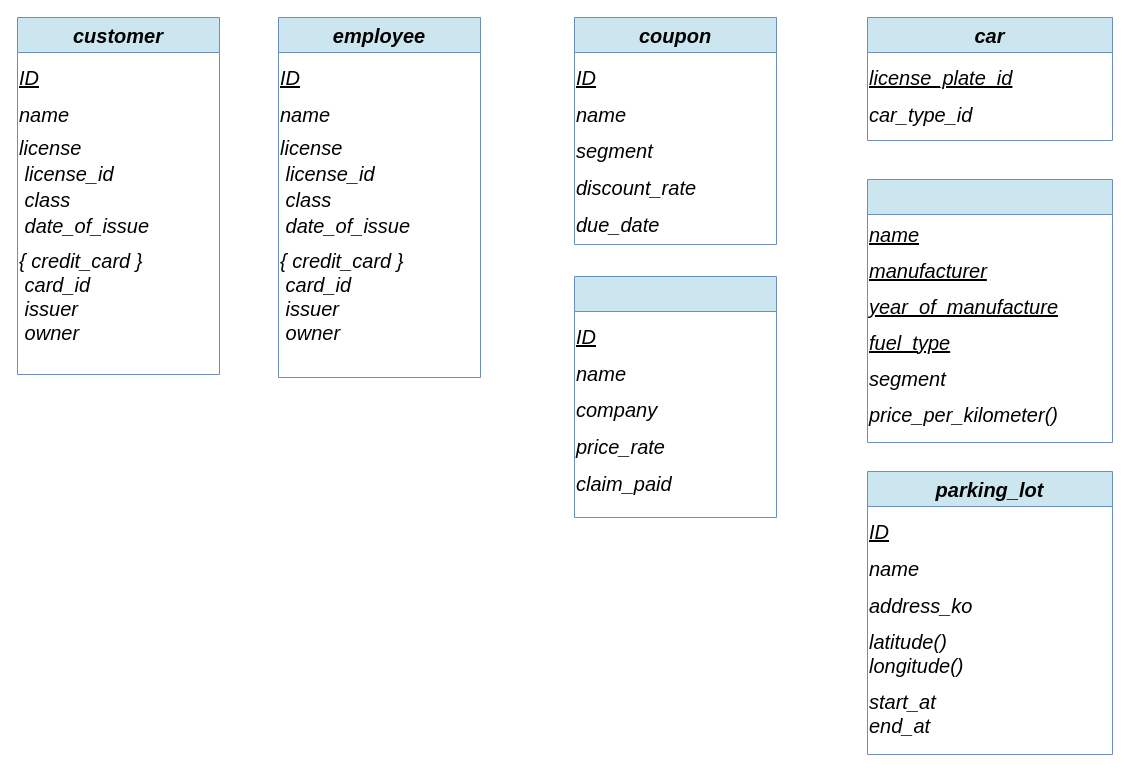
Image size: 1130x772. Some labels were removed from this diagram. Here are the shapes that lost their labels. From the top down, the box of each, then its label:
(866, 178, 1112, 442): car_type
(574, 276, 776, 518): insurance
